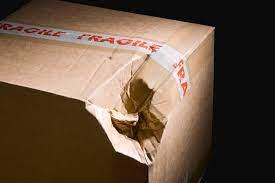damage_box: (0, 0, 215, 182)
